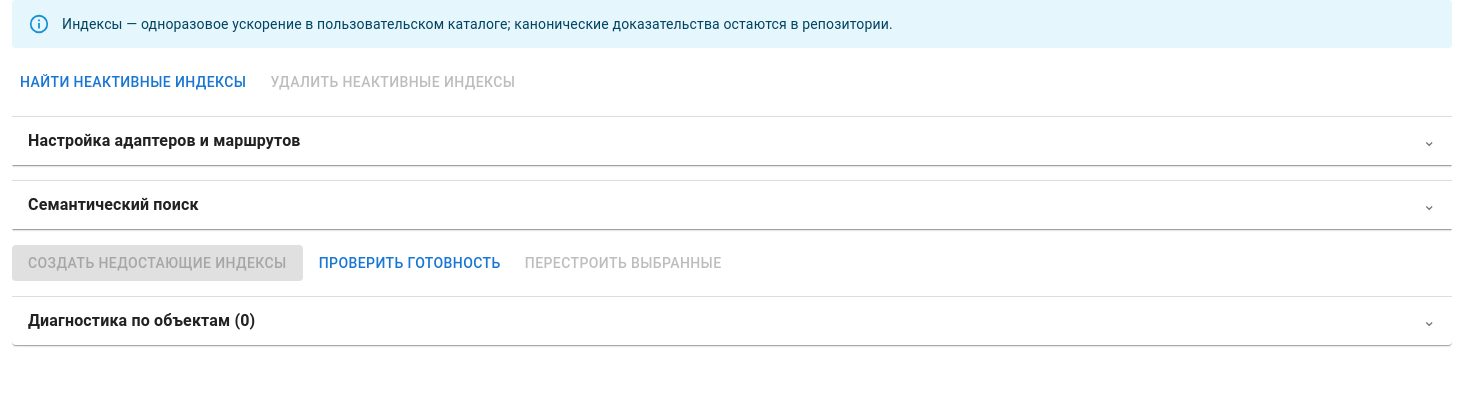
it: index validation is an explicit progress-visible action
Click the button "Проверить готовность".
click(410, 263)  # box [311,244,509,281]
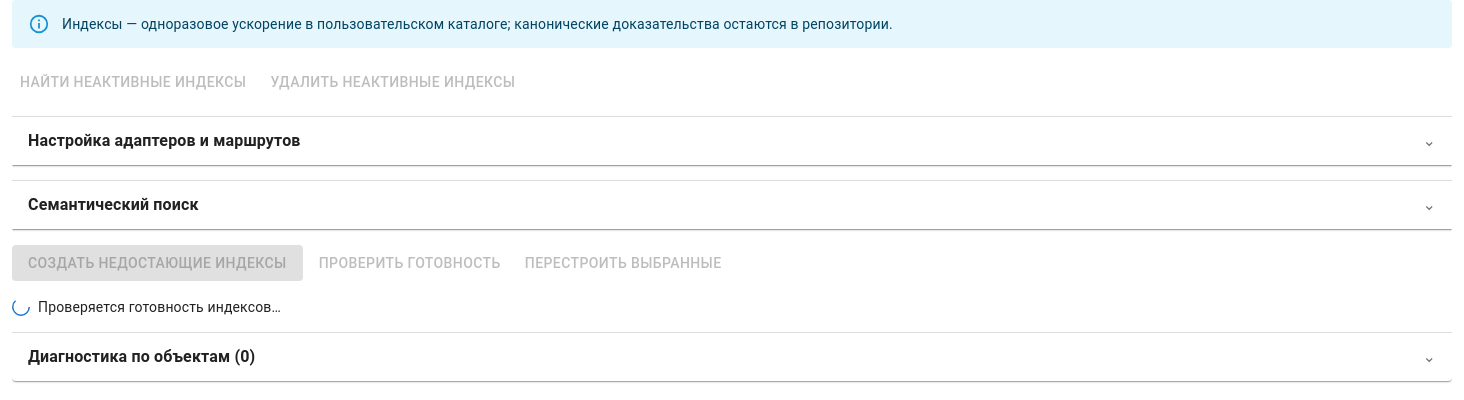
Now the text "Проверяется готовность индексов…" is shown, box [38,297,281,317]
